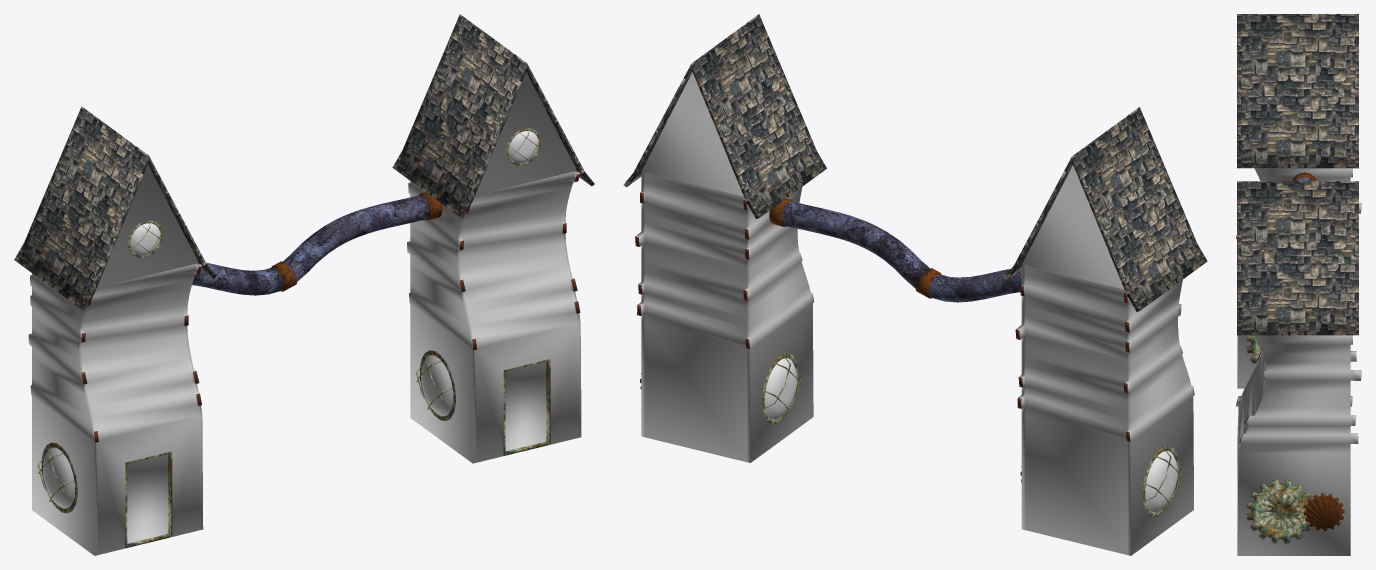
Rendered from pneumatic tube.fbx.
3 views of the same model, side by side, from view 1: azimuth 30°, elevation 25°; view 2: azimuth 150°, elevation 25°; view 3: azimuth 270°, elevation 25° (orthographic). The views are drawn at different scales.
Parts seen in each view (by area): view 1: TallHouse, TallHouse.001, Pneumatic Tube (1); view 2: TallHouse, TallHouse.001, Pneumatic Tube (1); view 3: TallHouse.001, TallHouse, Gear (1).001, Gear2 (2).001, Gear (1), Pneumatic Tube (1).
Boxes of the visible parts, x1=… form: TallHouse: x1=14, y1=106, x2=216, y2=555; TallHouse.001: x1=392, y1=14, x2=594, y2=463; Pneumatic Tube (1): x1=192, y1=192, x2=442, y2=295; TallHouse: x1=1004, y1=107, x2=1207, y2=555; TallHouse.001: x1=623, y1=14, x2=826, y2=462; Pneumatic Tube (1): x1=769, y1=198, x2=1021, y2=302; TallHouse.001: x1=1236, y1=181, x2=1361, y2=555; TallHouse: x1=1236, y1=14, x2=1361, y2=388; Gear (1).001: x1=1246, y1=479, x2=1312, y2=543; Gear2 (2).001: x1=1303, y1=493, x2=1344, y2=531; Gear (1): x1=1246, y1=335, x2=1261, y2=364; Pneumatic Tube (1): x1=1292, y1=172, x2=1315, y2=181.
Bounding box in the file's own units: 946 × 682 × 222.
